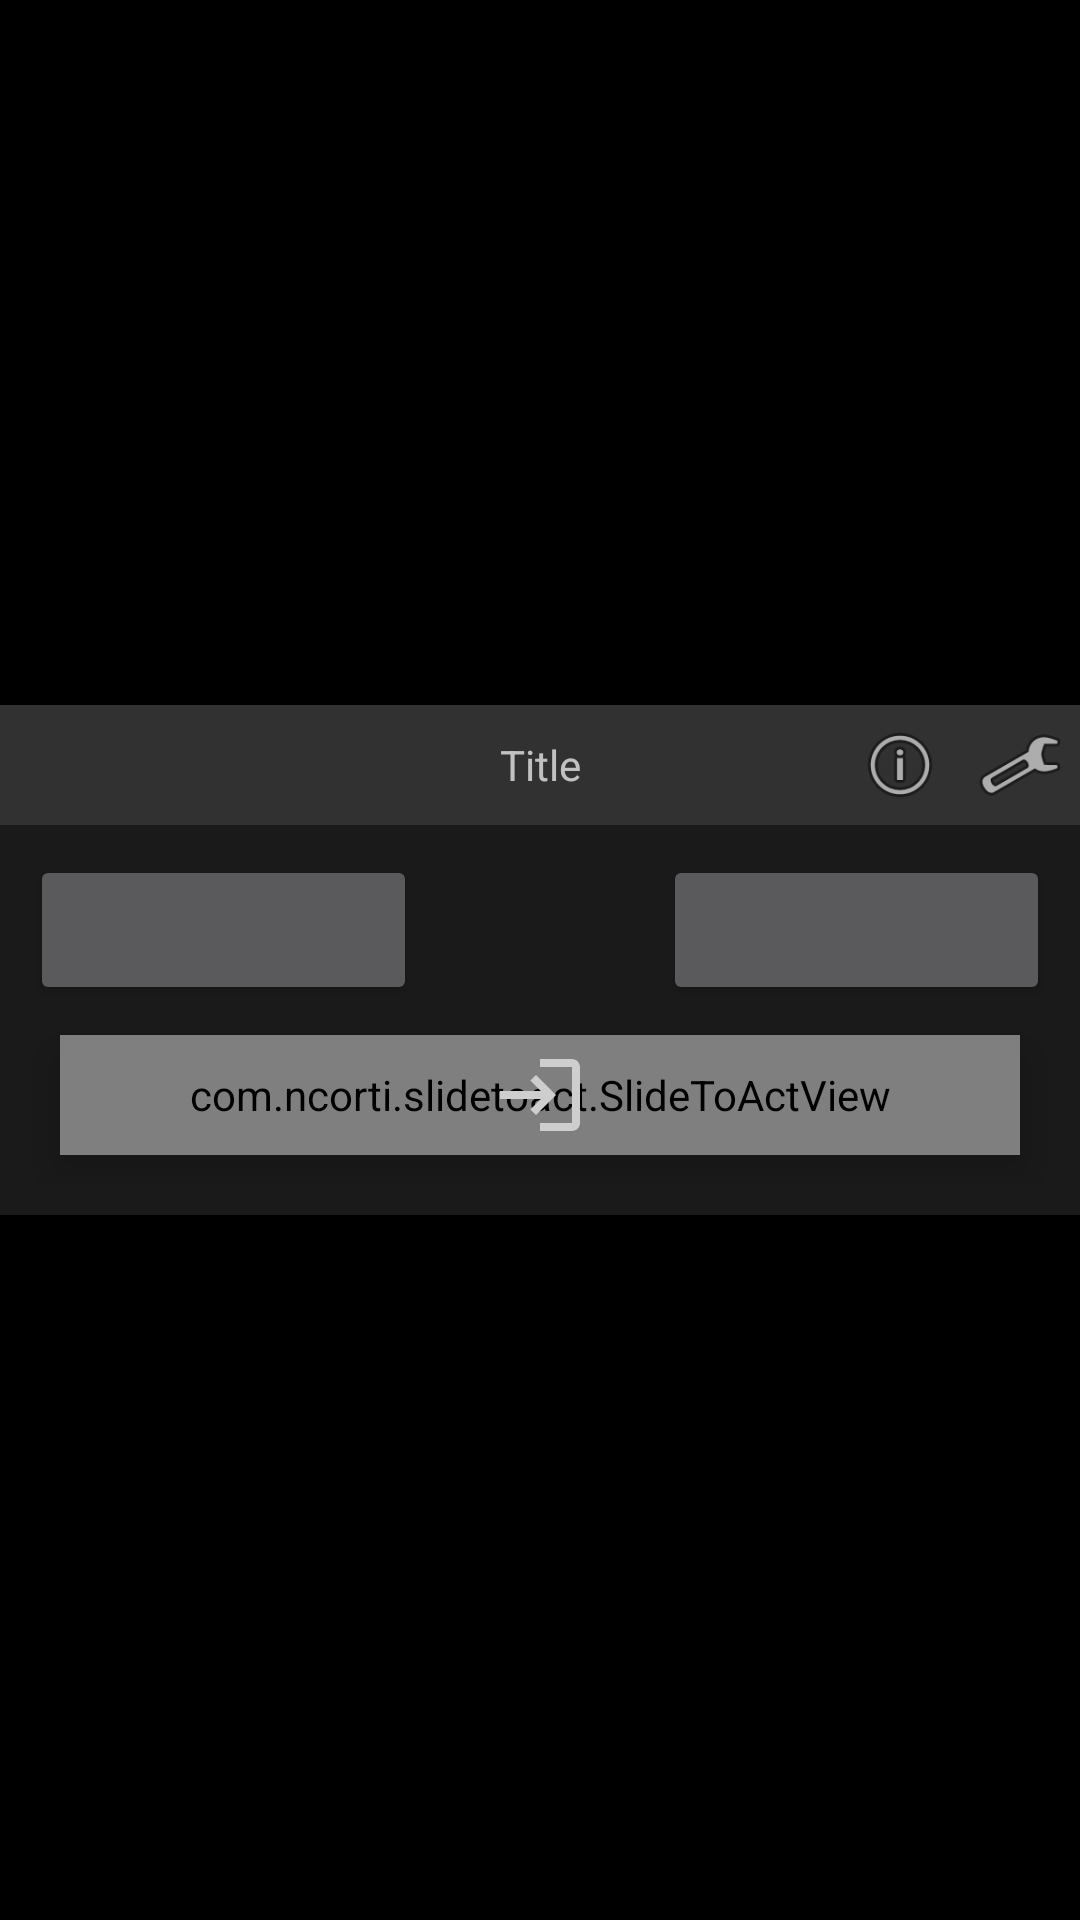

Point at icon controls on the screen. Image size 1080 x 1920, points as (x=x, y=y).
info details: (x=900, y=765)
manage: (x=1020, y=765)
